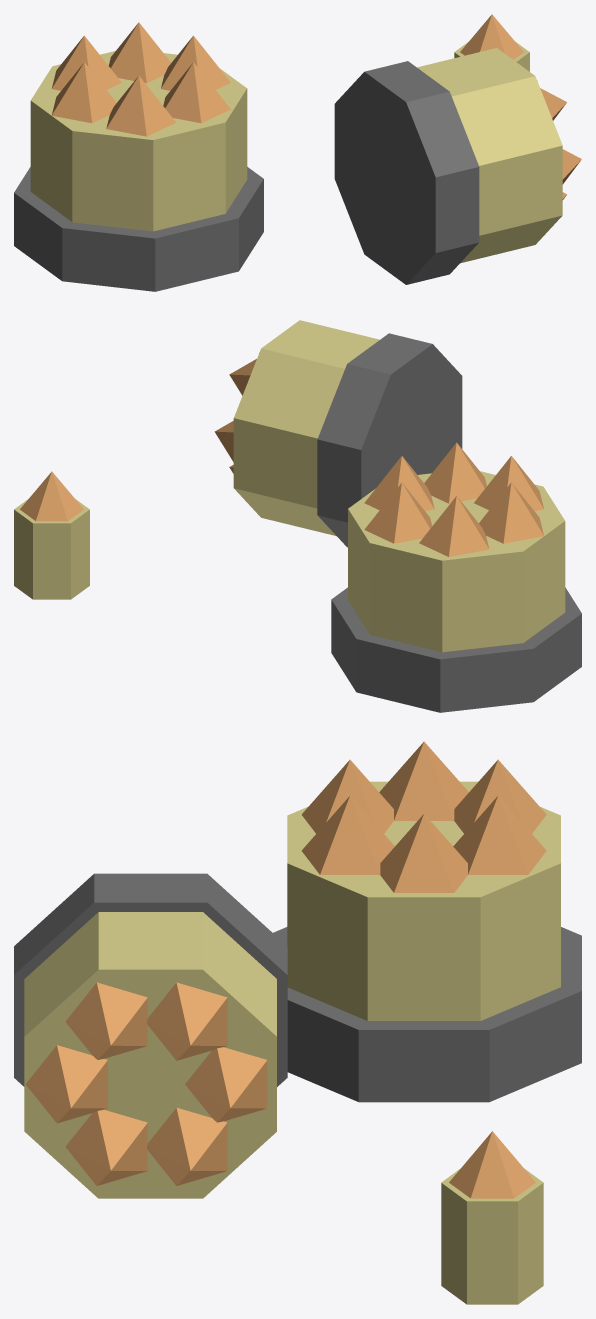
The model's file is ce_ammo_revolver_hp_b.obj.
The picture shows the model from 3 angles, top to bottom: view 1: azimuth 30°, elevation 25°; view 2: azimuth 150°, elevation 25°; view 3: azimuth 270°, elevation 25°; orthographic projection. The views are drawn at different scales.
Visible parts, largest first — view 1: ce_ammo_revolver_hp_b_8, ce_ammo_revolver_hp_b_1, ce_ammo_revolver_hp_b_9, ce_ammo_revolver_hp_b_0, ce_ammo_revolver_hp_b_6, ce_ammo_revolver_hp_b_5, ce_ammo_revolver_hp_b_7, ce_ammo_revolver_hp_b_3, ce_ammo_revolver_hp_b_4, ce_ammo_revolver_hp_b_2, ce_ammo_revolver_hp_b_17, ce_ammo_revolver_hp_b_13 (+1 smaller); view 2: ce_ammo_revolver_hp_b_1, ce_ammo_revolver_hp_b_8, ce_ammo_revolver_hp_b_9, ce_ammo_revolver_hp_b_0, ce_ammo_revolver_hp_b_16, ce_ammo_revolver_hp_b_4, ce_ammo_revolver_hp_b_5, ce_ammo_revolver_hp_b_3, ce_ammo_revolver_hp_b_7, ce_ammo_revolver_hp_b_17, ce_ammo_revolver_hp_b_6, ce_ammo_revolver_hp_b_2; view 3: ce_ammo_revolver_hp_b_1, ce_ammo_revolver_hp_b_9, ce_ammo_revolver_hp_b_0, ce_ammo_revolver_hp_b_8, ce_ammo_revolver_hp_b_16, ce_ammo_revolver_hp_b_2, ce_ammo_revolver_hp_b_11, ce_ammo_revolver_hp_b_15, ce_ammo_revolver_hp_b_10, ce_ammo_revolver_hp_b_12, ce_ammo_revolver_hp_b_14, ce_ammo_revolver_hp_b_13 (+6 smaller).
Part boxes in pixels (x1=…): ce_ammo_revolver_hp_b_8: x1=334, y1=61, x2=479, y2=284; ce_ammo_revolver_hp_b_1: x1=30, y1=51, x2=247, y2=231; ce_ammo_revolver_hp_b_9: x1=417, y1=48, x2=562, y2=263; ce_ammo_revolver_hp_b_0: x1=14, y1=167, x2=263, y2=291; ce_ammo_revolver_hp_b_6: x1=106, y1=76, x2=176, y2=136; ce_ammo_revolver_hp_b_5: x1=51, y1=62, x2=116, y2=123; ce_ammo_revolver_hp_b_7: x1=163, y1=62, x2=230, y2=123; ce_ammo_revolver_hp_b_3: x1=108, y1=22, x2=170, y2=83; ce_ammo_revolver_hp_b_4: x1=51, y1=35, x2=121, y2=90; ce_ammo_revolver_hp_b_2: x1=161, y1=35, x2=230, y2=90; ce_ammo_revolver_hp_b_17: x1=460, y1=14, x2=523, y2=59; ce_ammo_revolver_hp_b_13: x1=562, y1=149, x2=581, y2=184; ce_ammo_revolver_hp_b_1: x1=348, y1=471, x2=565, y2=652; ce_ammo_revolver_hp_b_8: x1=317, y1=333, x2=462, y2=547; ce_ammo_revolver_hp_b_9: x1=233, y1=320, x2=379, y2=535; ce_ammo_revolver_hp_b_0: x1=331, y1=587, x2=581, y2=712; ce_ammo_revolver_hp_b_16: x1=14, y1=499, x2=89, y2=599; ce_ammo_revolver_hp_b_4: x1=419, y1=496, x2=489, y2=556; ce_ammo_revolver_hp_b_5: x1=479, y1=482, x2=543, y2=543; ce_ammo_revolver_hp_b_3: x1=364, y1=482, x2=432, y2=543; ce_ammo_revolver_hp_b_7: x1=424, y1=442, x2=486, y2=503; ce_ammo_revolver_hp_b_17: x1=20, y1=471, x2=83, y2=521; ce_ammo_revolver_hp_b_6: x1=474, y1=456, x2=543, y2=510; ce_ammo_revolver_hp_b_2: x1=364, y1=456, x2=434, y2=511; ce_ammo_revolver_hp_b_1: x1=287, y1=781, x2=560, y2=1020; ce_ammo_revolver_hp_b_9: x1=24, y1=912, x2=276, y2=1198; ce_ammo_revolver_hp_b_0: x1=273, y1=927, x2=581, y2=1102; ce_ammo_revolver_hp_b_8: x1=14, y1=873, x2=287, y2=1086; ce_ammo_revolver_hp_b_16: x1=441, y1=1168, x2=543, y2=1304; ce_ammo_revolver_hp_b_2: x1=380, y1=814, x2=467, y2=892; ce_ammo_revolver_hp_b_11: x1=146, y1=982, x2=227, y2=1060; ce_ammo_revolver_hp_b_15: x1=146, y1=1107, x2=227, y2=1185; ce_ammo_revolver_hp_b_10: x1=185, y1=1047, x2=267, y2=1122; ce_ammo_revolver_hp_b_12: x1=65, y1=982, x2=147, y2=1059; ce_ammo_revolver_hp_b_14: x1=65, y1=1109, x2=147, y2=1185; ce_ammo_revolver_hp_b_13: x1=25, y1=1045, x2=107, y2=1123.
Size of the model in its own units: 0.6976 by 0.2501 by 0.4987.
